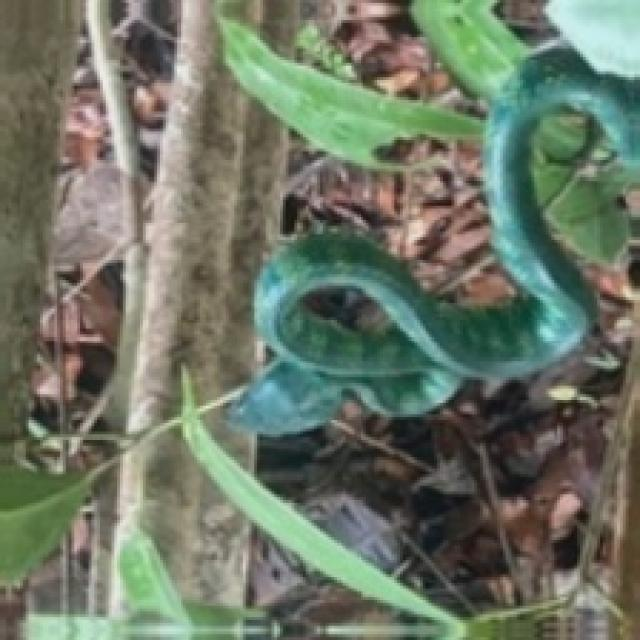north ph temple pitviper: (220, 0, 637, 431)
